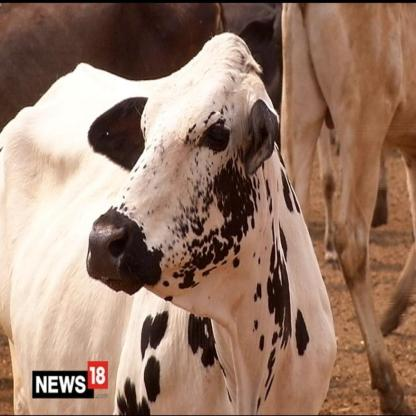cow: (0, 34, 337, 416), (281, 4, 416, 416)
